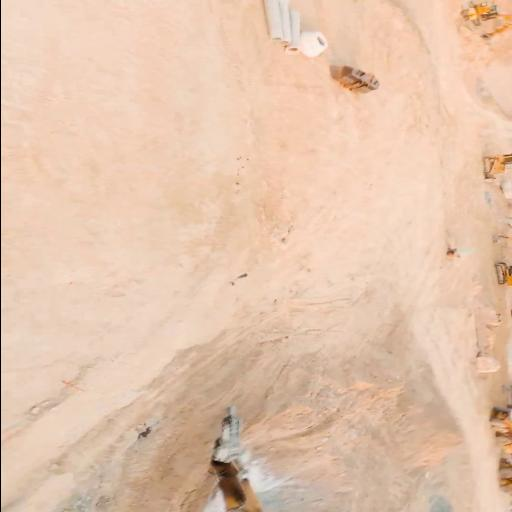uav: (226, 272, 248, 286)
